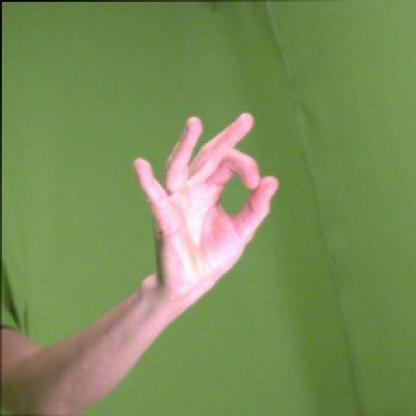Hand: (134, 112, 280, 306)
